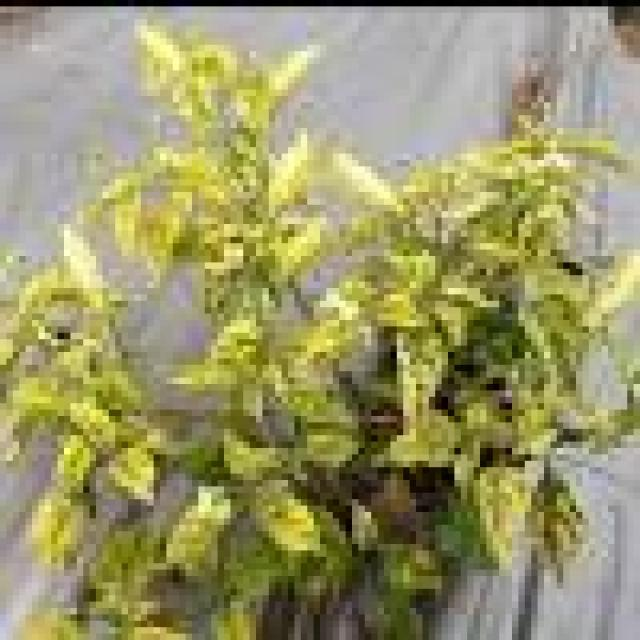Rust: (0, 2, 640, 640)
